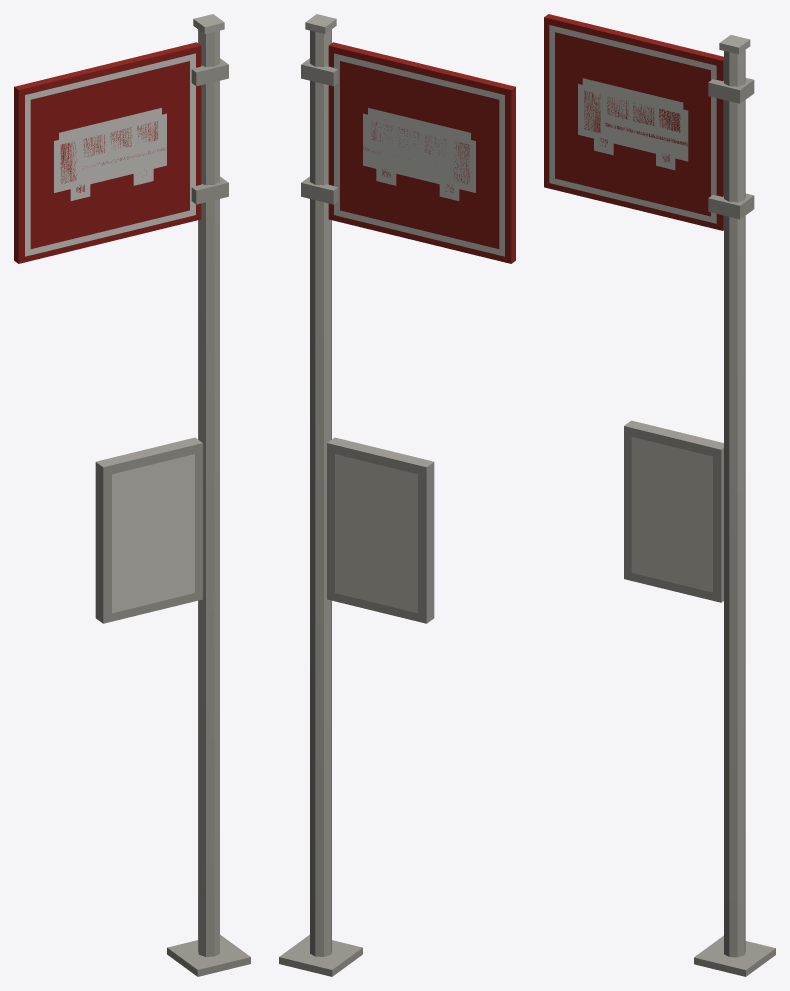
File: street.bus_stop.red.glb
The picture shows the model from 3 angles, left to right: view 1: azimuth 30°, elevation 25°; view 2: azimuth 150°, elevation 25°; view 3: azimuth 330°, elevation 25°; orthographic projection. The views are drawn at different scales.
Visible parts, largest first — view 1: street_bus_stop_red; view 2: street_bus_stop_red; view 3: street_bus_stop_red.
Part boxes in pixels (left/top/right/bottom): street_bus_stop_red: left=14, top=14, right=250, bottom=976; street_bus_stop_red: left=279, top=14, right=515, bottom=976; street_bus_stop_red: left=544, top=14, right=775, bottom=976.
Size of what is drawn, in the model's own units: 0.66 by 2.7 by 0.16.
